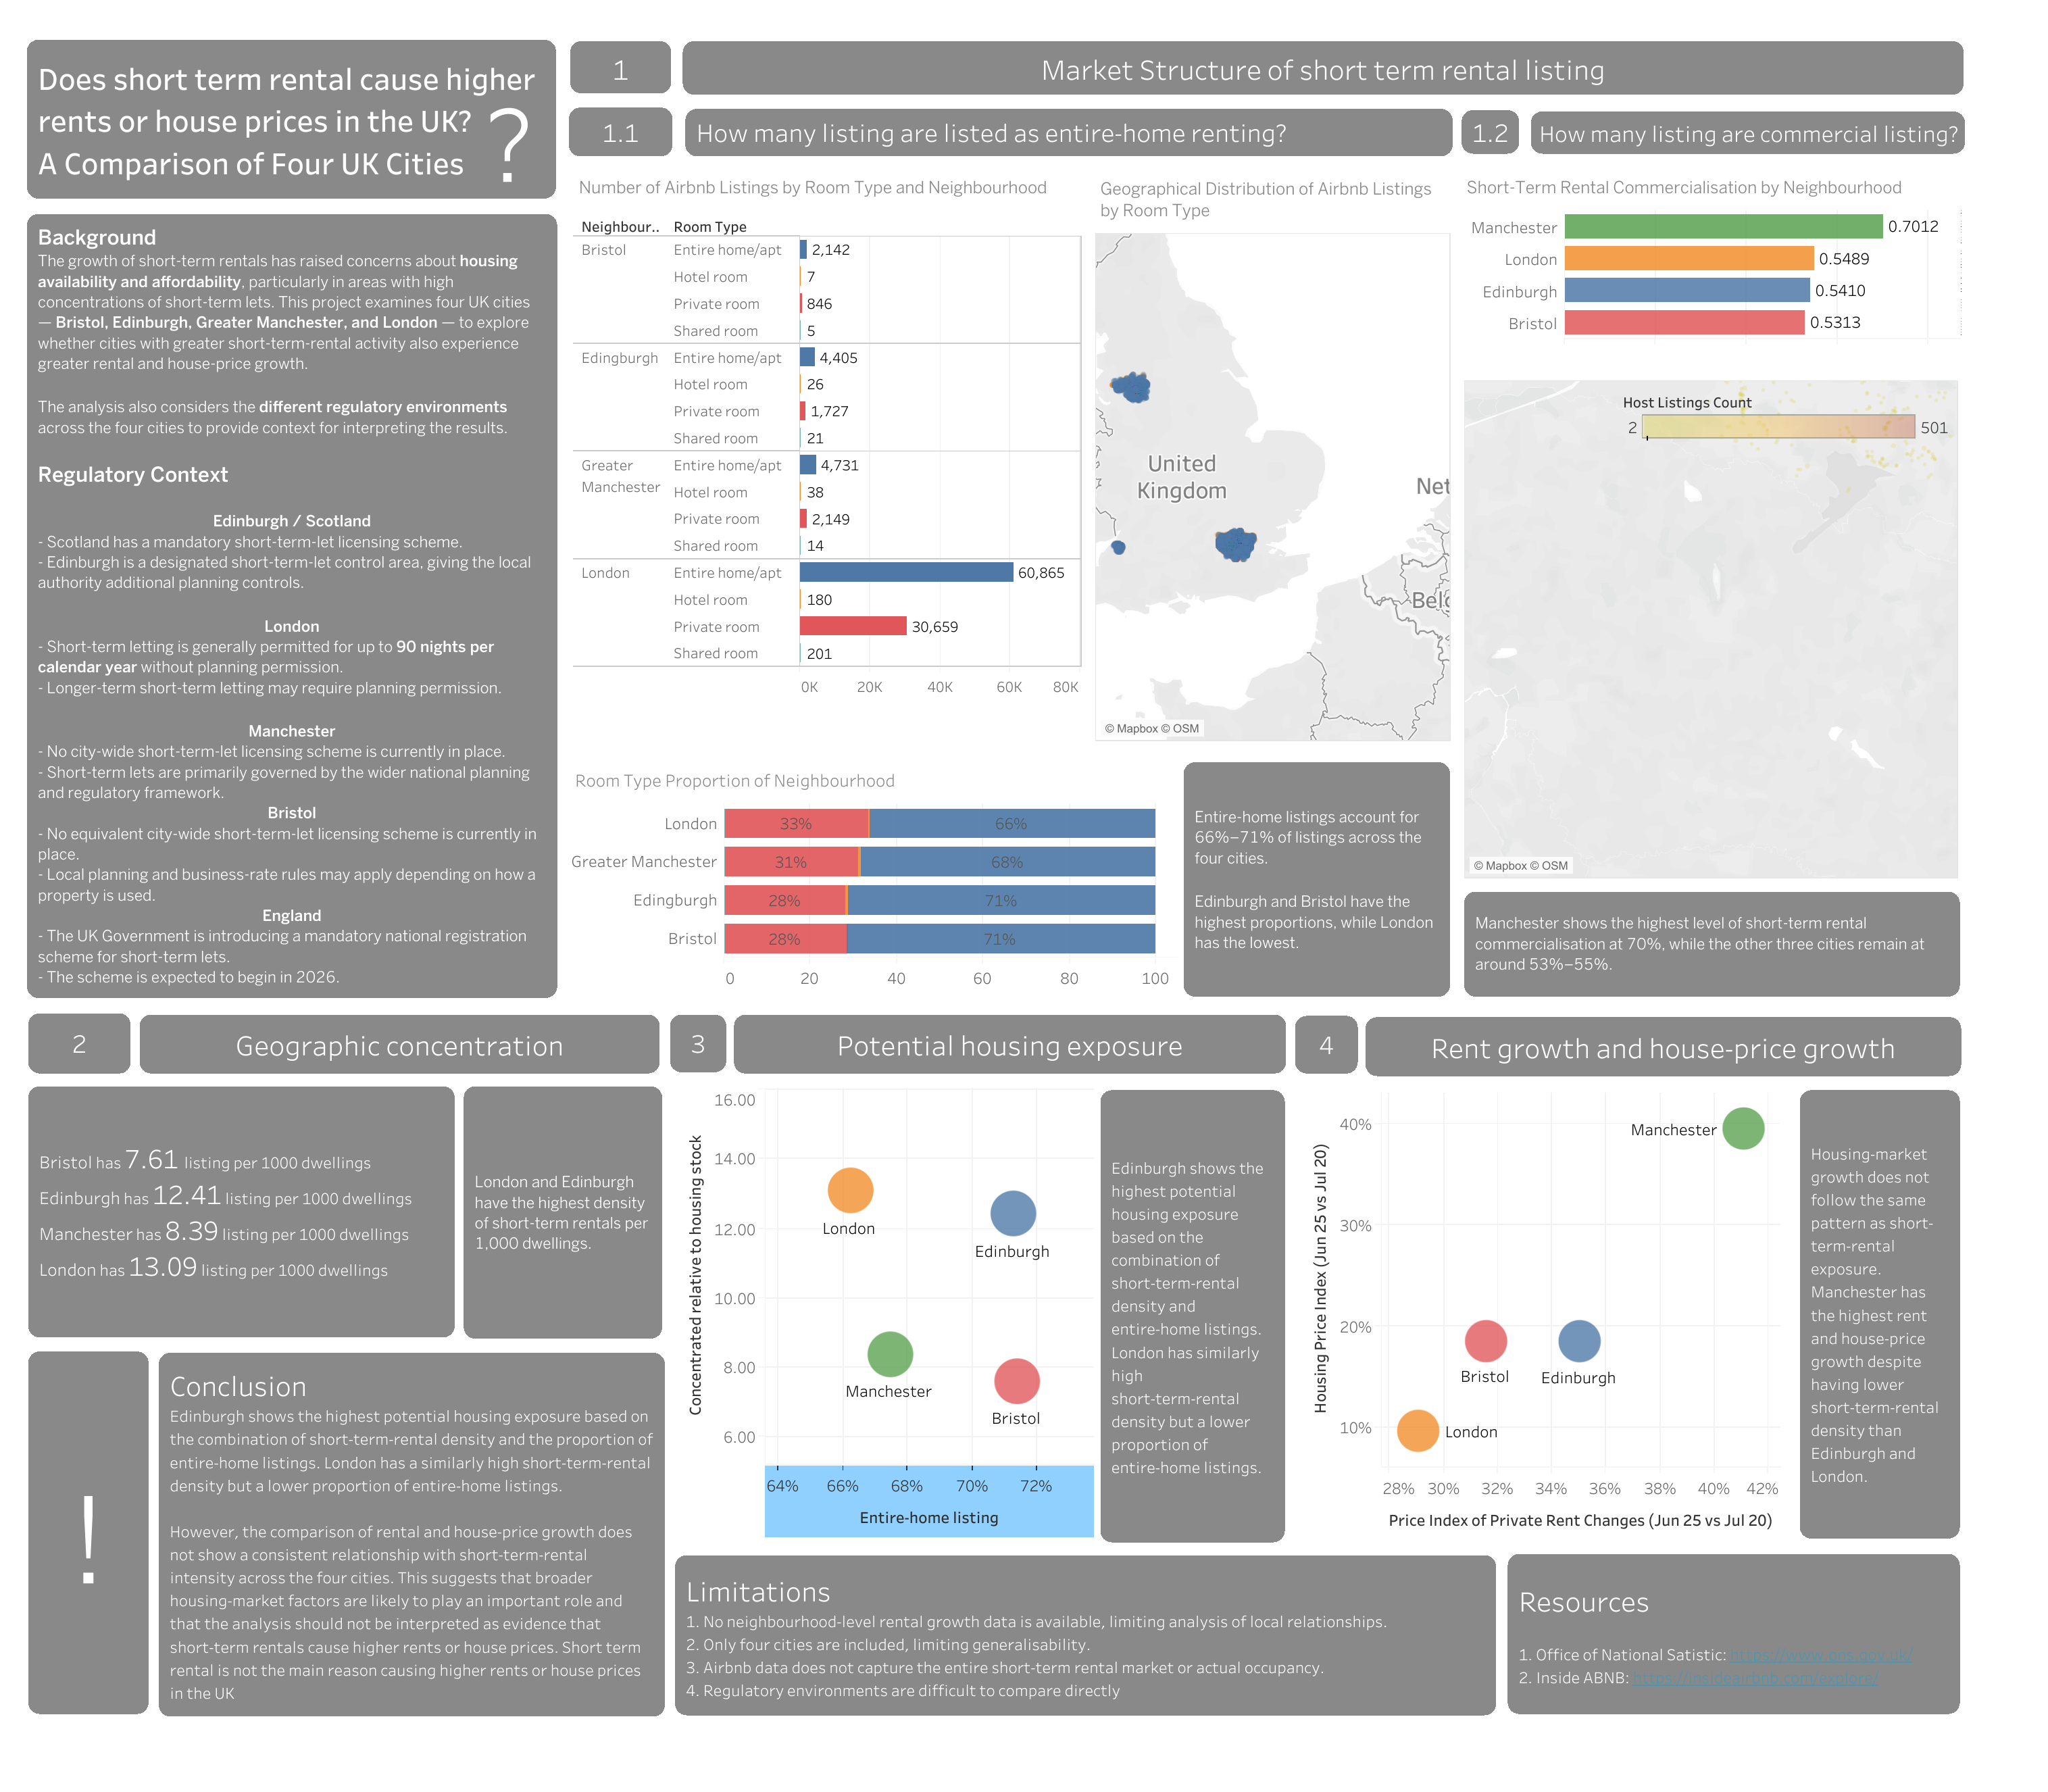

The page's visual inventory and layout, read from the dashboard file:
{"tool":"tableau","page":{"name":"Dashboard 3","canvas":[1600,1400],"ordinal":1},"visuals":[{"type":"text","box":[21,31,413,124]},{"type":"text","box":[445,32,79,41]},{"type":"text","box":[533,32,1000,42]},{"type":"text","box":[351,71,94,77]},{"type":"text","box":[444,84,81,38]},{"type":"text","box":[535,85,599,37]},{"type":"text","box":[1141,86,45,34]},{"type":"text","box":[1195,87,339,33]},{"type":"worksheet","title":"Q1.1","mark":"Automatic","rows":["neighbourhood_group","room_type"],"cols":["room_type_count"],"box":[448,132,405,445]},{"type":"worksheet","title":"Q2","mark":"Automatic","rows":["F1"],"cols":["Commercialised index"],"box":[1141,132,389,154]},{"type":"worksheet","title":"Geo 1","mark":"Automatic","rows":["latitude"],"cols":["longitude"],"box":[855,133,278,446]},{"type":"text","box":[21,167,414,612]},{"type":"worksheet","title":"V5","mark":"Automatic","rows":["latitude"],"cols":["longitude"],"box":[1143,297,386,389]},{"type":"legend","title":"V5","param":"[federated.19scw7d01e9mk71c9h4ty0p31kc9].[none:calculated_host_listings_count:qk","box":[1267,300,259,48]},{"type":"worksheet","title":"Q1.1(3)","mark":"Automatic","rows":["neighbourhood_group"],"cols":["percentage"],"box":[445,593,474,184]},{"type":"text","box":[924,595,208,183]},{"type":"text","box":[1143,696,387,82]},{"type":"text","box":[22,791,80,47]},{"type":"text","box":[109,792,406,46]},{"type":"text","box":[523,792,44,45]},{"type":"text","box":[573,792,431,46]},{"type":"text","box":[1011,793,49,45]},{"type":"text","box":[1066,794,465,46]},{"type":"text","box":[22,848,333,196]},{"type":"text","box":[362,848,155,197]},{"type":"worksheet","title":"Q4","mark":"Circle","rows":["Concentrated relative to housing stock"],"cols":["Entire-home listing"],"box":[526,849,328,351]},{"type":"text","box":[859,851,144,353]},{"type":"text","box":[1405,851,125,350]},{"type":"worksheet","title":"V8","mark":"Circle","rows":["Housing Price Index (Jun 25 vs Jul 20)"],"cols":["Price Index of Private Rent Changes (Jun 25 vs Jul 20)"],"box":[1014,853,376,349]},{"type":"text","box":[22,1055,94,283]},{"type":"text","box":[124,1056,395,284]},{"type":"text","box":[1177,1213,353,125]},{"type":"text","box":[527,1214,641,125]}]}

Visuals, with their boxes in screenshot pixels (x1, y1, x2, y2), scaled from the page's 1600x1400 canvas onto the 2048x1792 screenshot:
text: bbox(27, 40, 555, 199)
text: bbox(570, 41, 671, 93)
text: bbox(682, 41, 1962, 95)
text: bbox(449, 91, 570, 189)
text: bbox(568, 107, 672, 156)
text: bbox(684, 109, 1451, 156)
text: bbox(1460, 110, 1518, 153)
text: bbox(1530, 111, 1964, 153)
"Q1.1" worksheet: bbox(574, 169, 1092, 739)
"Q2" worksheet: bbox(1460, 169, 1958, 366)
"Geo 1" worksheet: bbox(1095, 170, 1450, 741)
text: bbox(27, 214, 557, 997)
"V5" worksheet: bbox(1463, 380, 1957, 878)
"V5" legend: bbox(1622, 384, 1953, 445)
"Q1.1(3)" worksheet: bbox(570, 759, 1176, 995)
text: bbox(1182, 762, 1449, 996)
text: bbox(1463, 891, 1958, 996)
text: bbox(28, 1012, 130, 1072)
text: bbox(139, 1014, 659, 1072)
text: bbox(670, 1014, 726, 1072)
text: bbox(733, 1014, 1285, 1072)
text: bbox(1294, 1015, 1357, 1072)
text: bbox(1364, 1016, 1959, 1075)
text: bbox(28, 1085, 455, 1337)
text: bbox(464, 1085, 661, 1338)
"Q4" worksheet (Circle marks): bbox(673, 1087, 1093, 1536)
text: bbox(1099, 1089, 1284, 1541)
text: bbox(1799, 1089, 1958, 1537)
"V8" worksheet (Circle marks): bbox(1298, 1092, 1779, 1539)
text: bbox(28, 1350, 149, 1713)
text: bbox(159, 1351, 664, 1715)
text: bbox(1507, 1553, 1958, 1713)
text: bbox(674, 1554, 1495, 1714)
